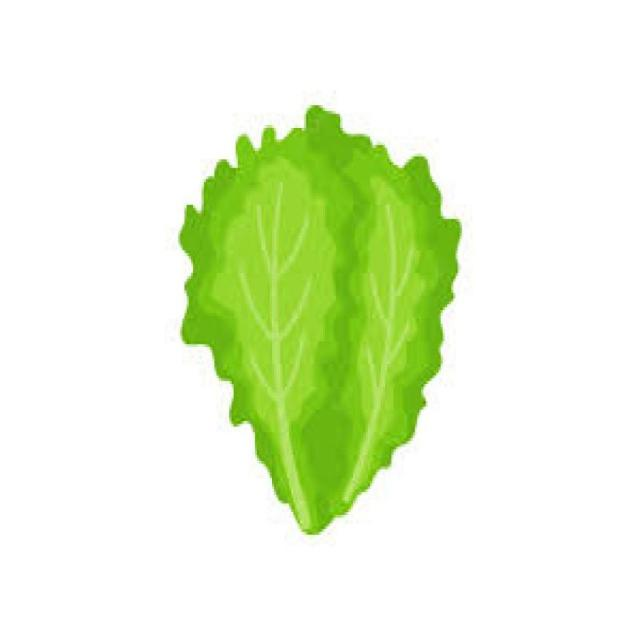healthy: (179, 96, 455, 542)
